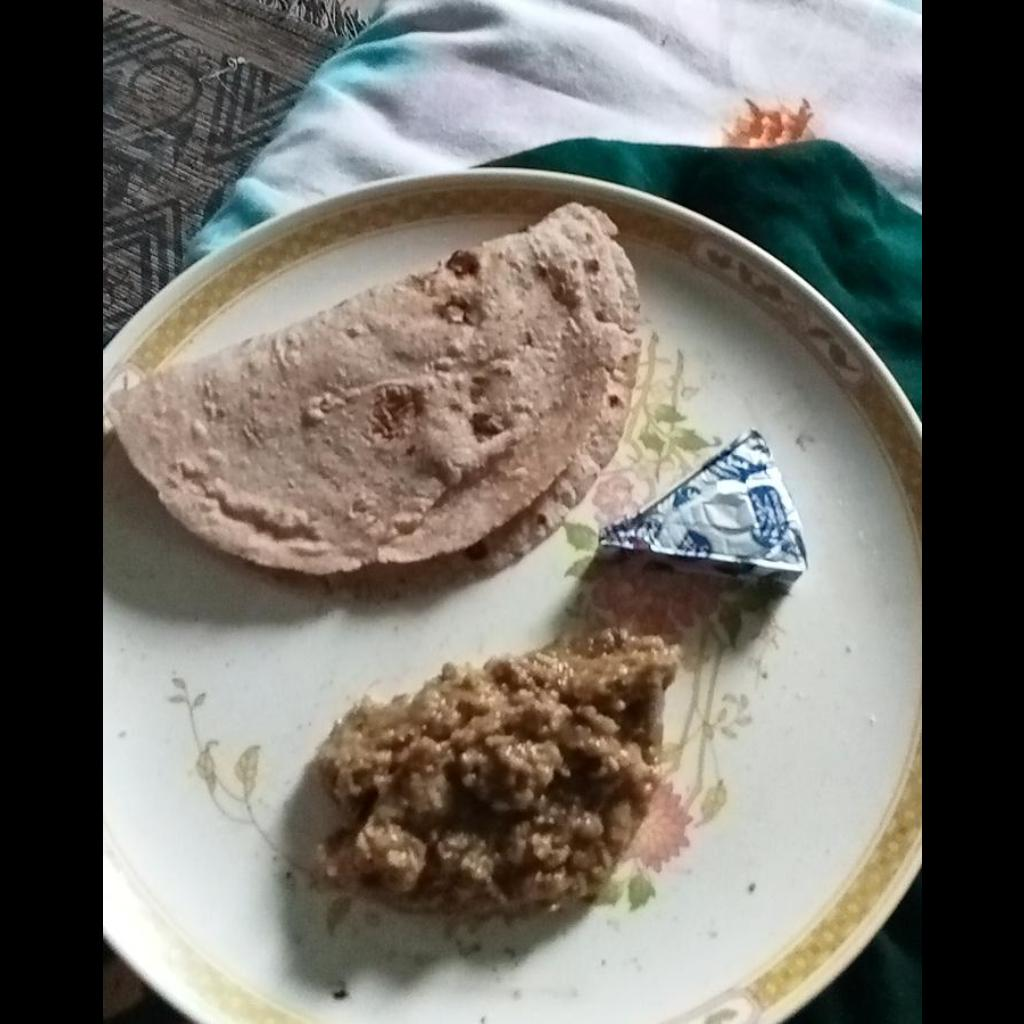ruti: (106, 197, 641, 599)
vorta: (313, 636, 677, 921)
